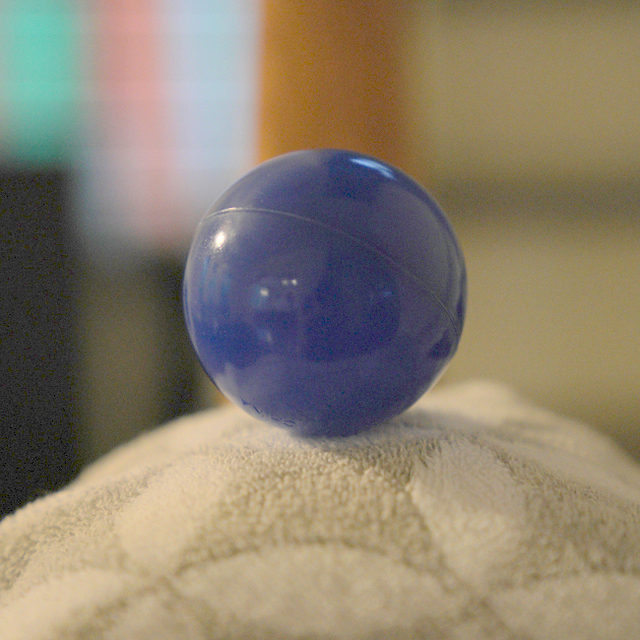Ball: (176, 152, 468, 433)
